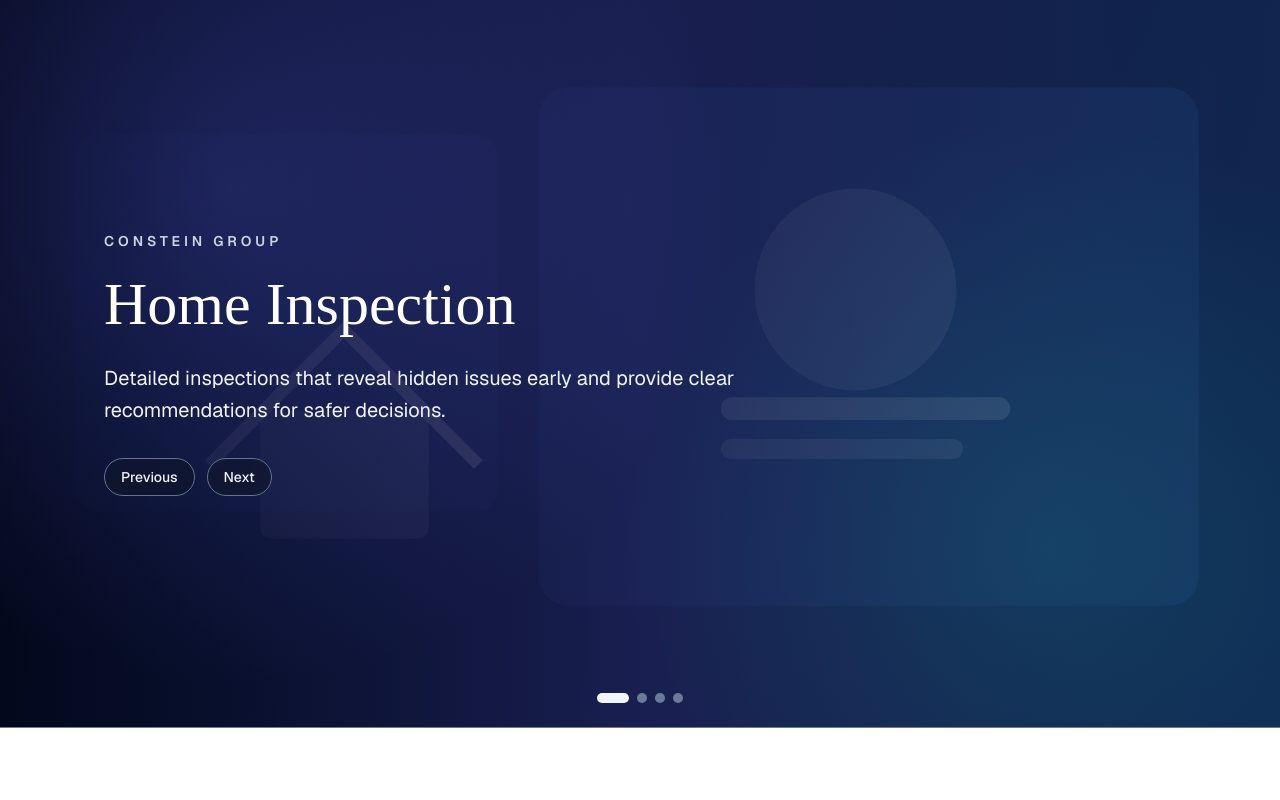
Test: GallerySection › advances slides using next and previous controls
The image size is (1280, 800).
expect the heading "Home Inspection" is shown: met, box x1=104 y1=271 x2=516 y2=337
Click the button "Next" at (239, 477), box x1=206 y1=458 x2=272 y2=496
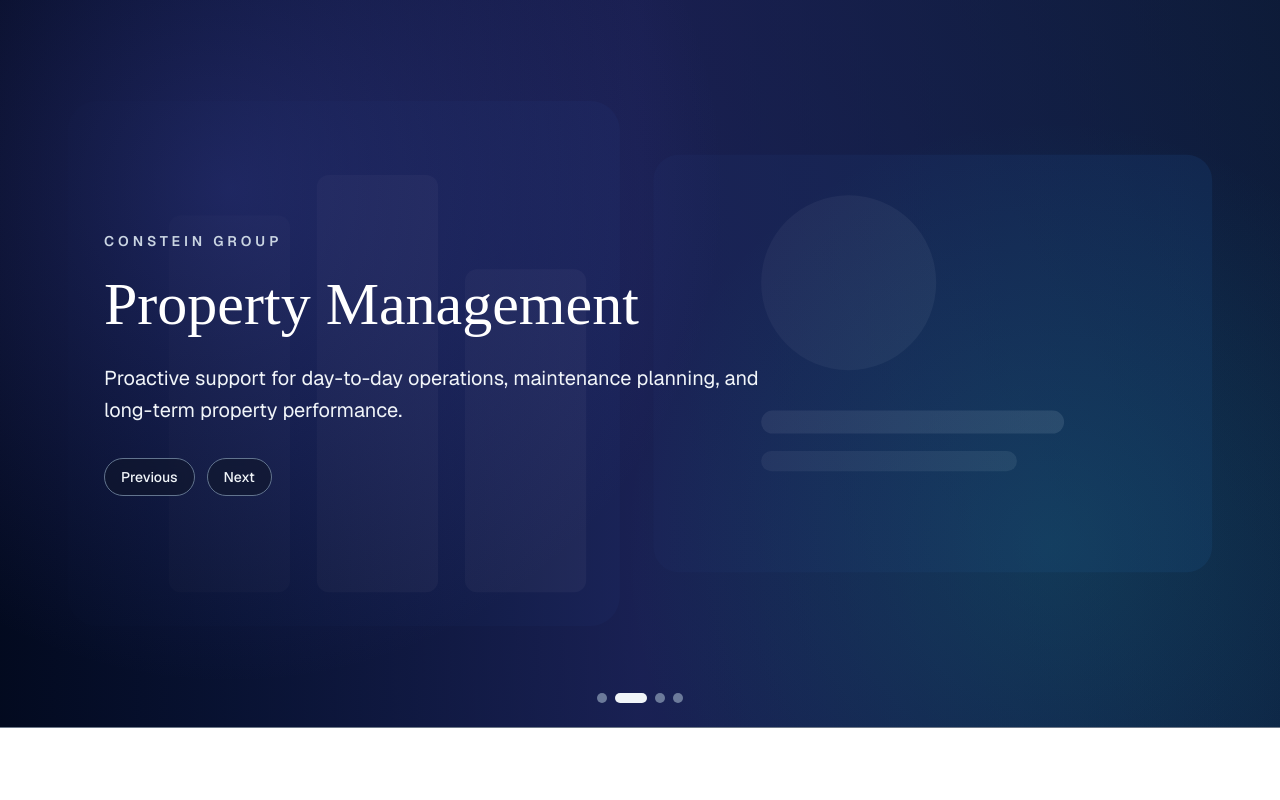
expect the heading "Property Management" is shown: met, box x1=104 y1=271 x2=639 y2=337
Click the button "Previous" at (149, 477), box x1=104 y1=458 x2=194 y2=496
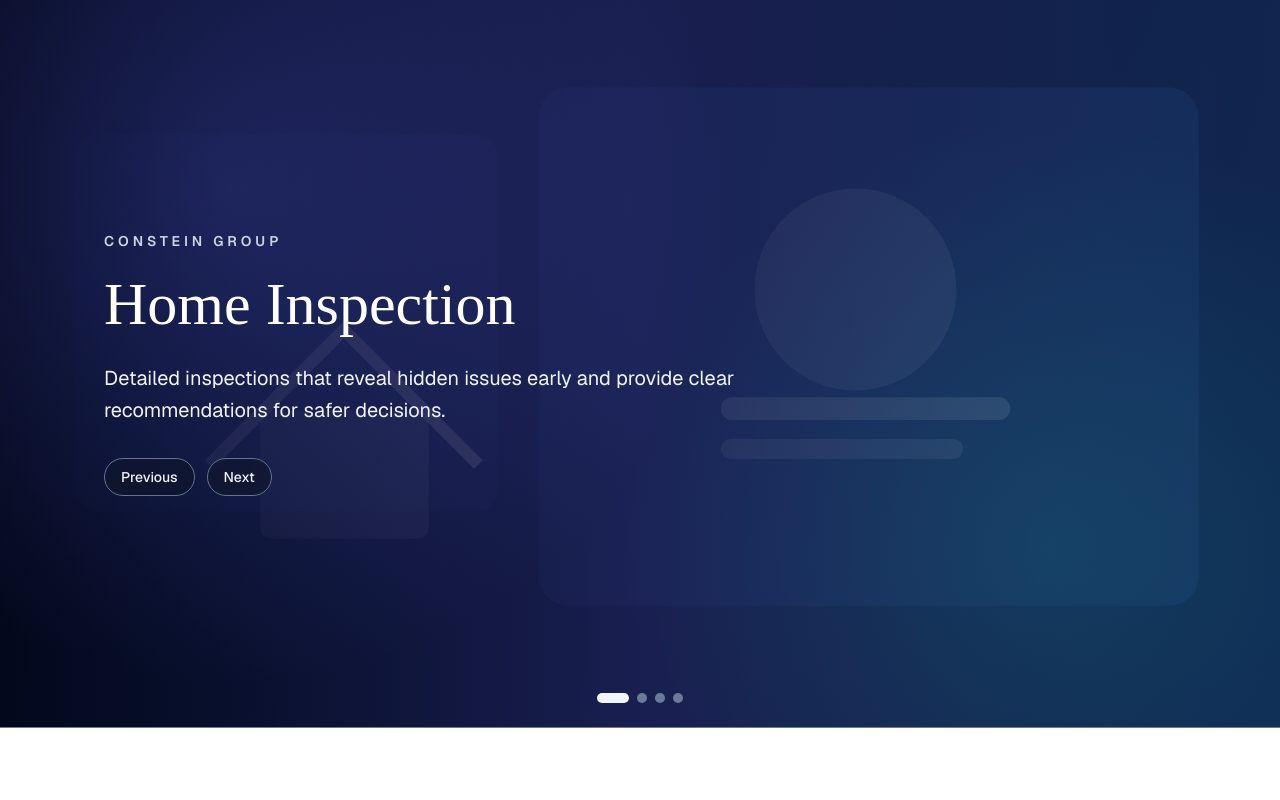
expect the heading "Home Inspection" is shown: met, box x1=104 y1=271 x2=516 y2=337
